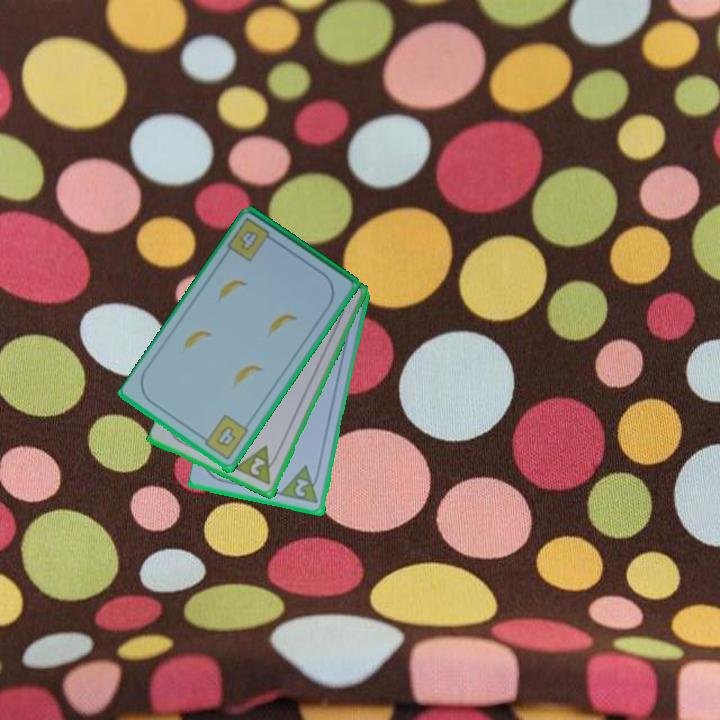2p: (278, 462, 323, 507), (247, 454, 268, 479)
4b: (224, 214, 280, 265), (197, 412, 251, 464)
